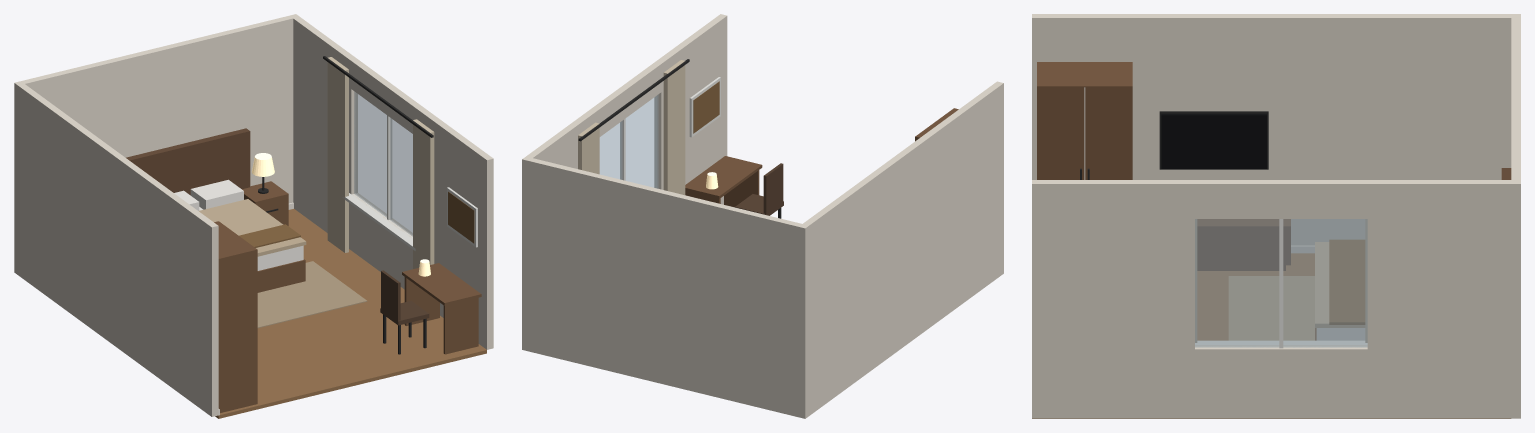
The model's file is room-7.glb.
3 views of the same model, side by side, from view 1: azimuth 30°, elevation 25°; view 2: azimuth 150°, elevation 25°; view 3: azimuth 270°, elevation 25° (orthographic). The views are drawn at different scales.
Visible parts, largest first — view 1: wall, floor, wood, curtain, glass, headboard, rug, blanket, window_frame, linen, runner, chair (+2 smaller); view 2: wall, glass, curtain, wood, chair, runner, window_frame, metal; view 3: wall, glass, wood, screen, rug, floor, runner, window_frame, blanket, metal, curtain, linen.
Part boxes in pixels (<box>): wall: <box>14,14,493,416</box>; floor: <box>215,209,486,418</box>; wood: <box>214,181,481,412</box>; curtain: <box>327,57,434,268</box>; glass: <box>354,91,412,236</box>; headboard: <box>126,128,250,195</box>; rug: <box>257,261,367,328</box>; blanket: <box>199,199,306,256</box>; window_frame: <box>342,115,477,250</box>; linen: <box>174,179,303,270</box>; runner: <box>239,191,474,247</box>; chair: <box>380,270,429,325</box>; wall: <box>522,14,1003,418</box>; glass: <box>599,95,658,188</box>; curtain: <box>578,60,685,195</box>; wood: <box>685,108,958,207</box>; chair: <box>735,163,783,215</box>; runner: <box>693,81,719,133</box>; window_frame: <box>620,77,720,180</box>; metal: <box>578,59,781,218</box>; wall: <box>1032,14,1520,418</box>; glass: <box>1195,219,1367,347</box>; wood: <box>1037,62,1316,340</box>; screen: <box>1161,114,1266,168</box>; rug: <box>1228,276,1314,340</box>; floor: <box>1032,253,1510,418</box>; runner: <box>1329,239,1365,324</box>; window_frame: <box>1195,219,1367,348</box>; blanket: <box>1315,242,1365,327</box>; metal: <box>1080,111,1268,179</box>; curtain: <box>1195,219,1367,342</box>; linen: <box>1316,328,1365,340</box>.
Bounding box in the file's own units: 4.2 × 2.75 × 5.1.
